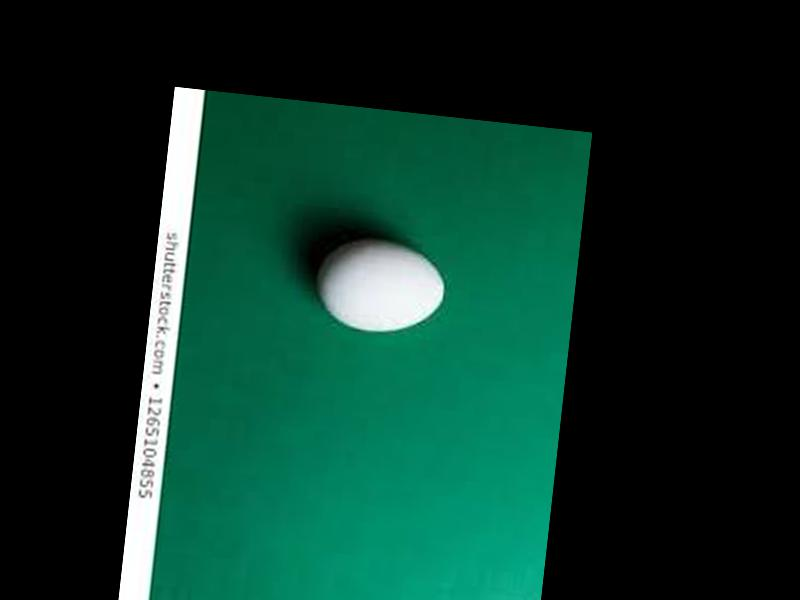Eggs: (312, 237, 447, 342)
